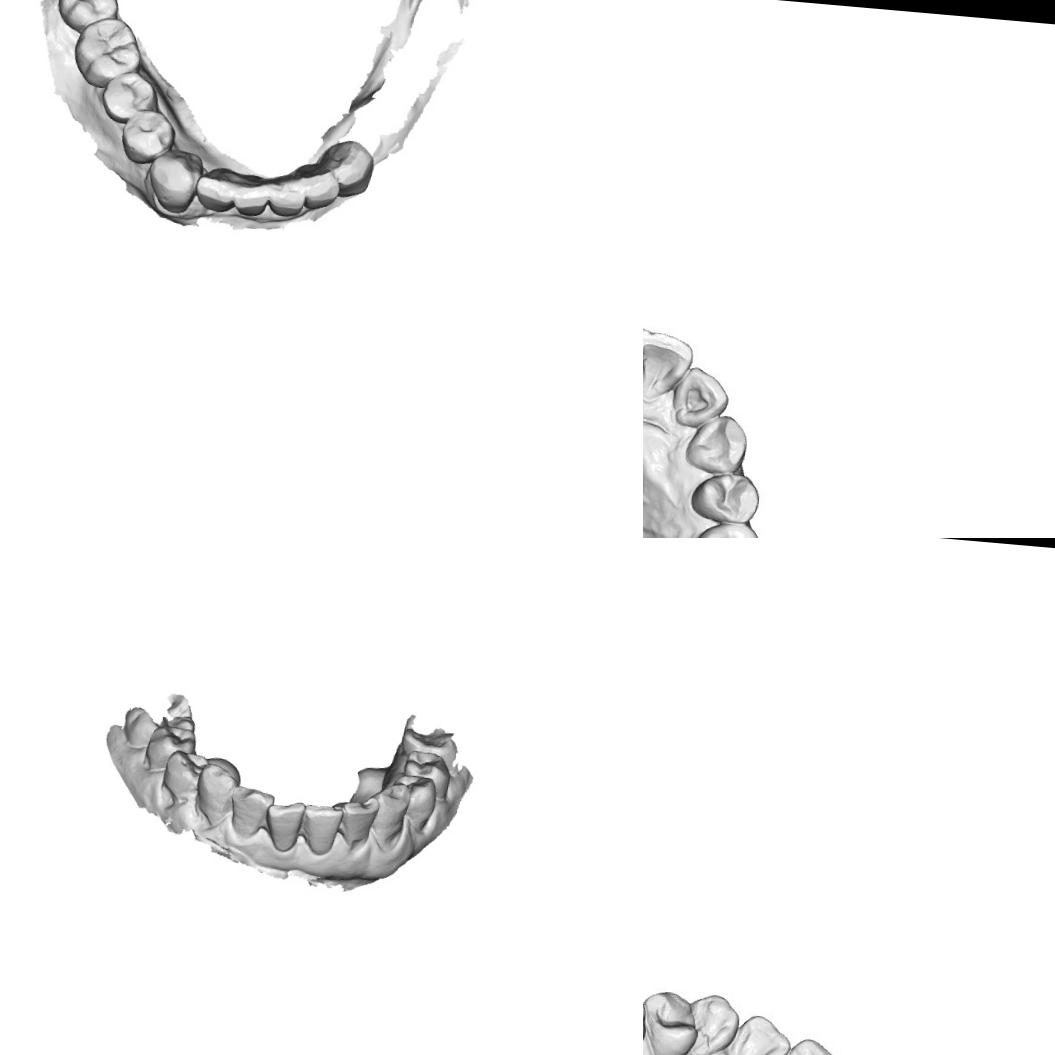canine: (680, 408, 750, 479), (142, 148, 199, 216), (319, 136, 379, 200), (682, 990, 738, 1055), (370, 779, 414, 856), (193, 754, 240, 824)
incisor: (668, 362, 727, 430), (643, 328, 694, 397), (224, 781, 276, 843), (724, 1009, 790, 1055), (260, 795, 306, 854), (298, 797, 342, 858), (294, 160, 344, 212), (192, 162, 241, 215), (265, 167, 309, 220), (336, 796, 376, 852), (231, 169, 271, 219), (765, 1034, 843, 1055)
molar: (68, 10, 146, 92), (51, 0, 125, 37)
premolar: (116, 98, 176, 168), (96, 65, 160, 127), (690, 470, 758, 525), (643, 989, 697, 1055), (398, 747, 456, 802), (390, 772, 440, 833), (142, 722, 198, 776), (160, 747, 210, 799), (691, 521, 762, 538)
